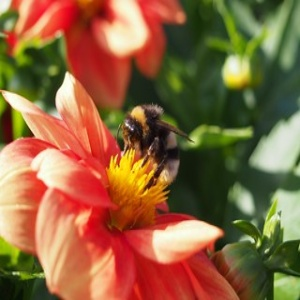bee: (118, 101, 194, 192)
